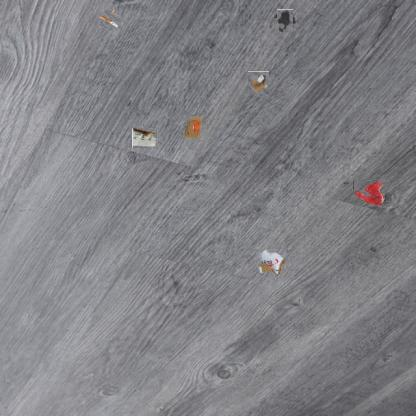dirty: (256, 249, 288, 277), (184, 115, 206, 140), (247, 72, 270, 94), (132, 128, 157, 148), (100, 11, 119, 29)
liquid: (353, 180, 385, 206), (276, 11, 295, 30)
